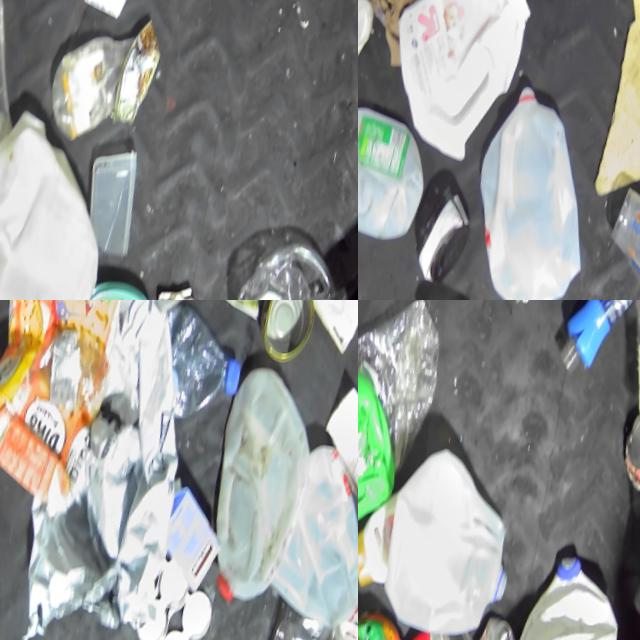can: (102, 14, 171, 130), (245, 300, 322, 365), (606, 407, 640, 491), (454, 604, 514, 640), (388, 615, 468, 640)
milk_jug: (180, 354, 326, 618), (443, 74, 613, 300), (359, 436, 523, 640), (365, 0, 547, 175), (0, 84, 129, 300), (245, 429, 358, 626), (489, 530, 623, 640), (358, 94, 435, 250)
non_white_jug: (358, 340, 408, 542)
plastic_bottle: (126, 300, 248, 423), (34, 9, 129, 139)
